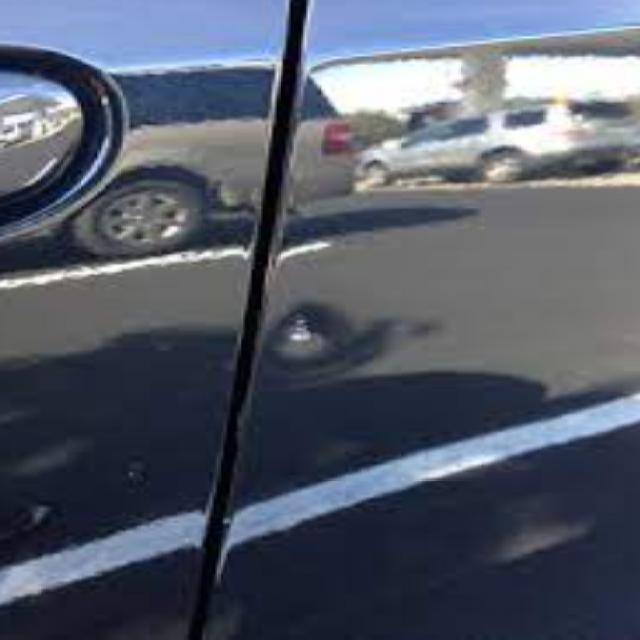dents: (272, 287, 348, 376)
